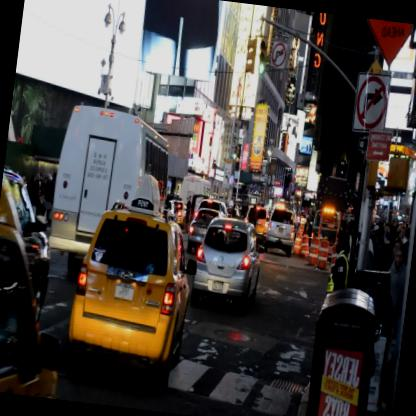bus: (44, 104, 174, 286)
car: (63, 207, 200, 384), (190, 214, 265, 310), (263, 204, 298, 256), (186, 206, 221, 256), (242, 206, 270, 249)
